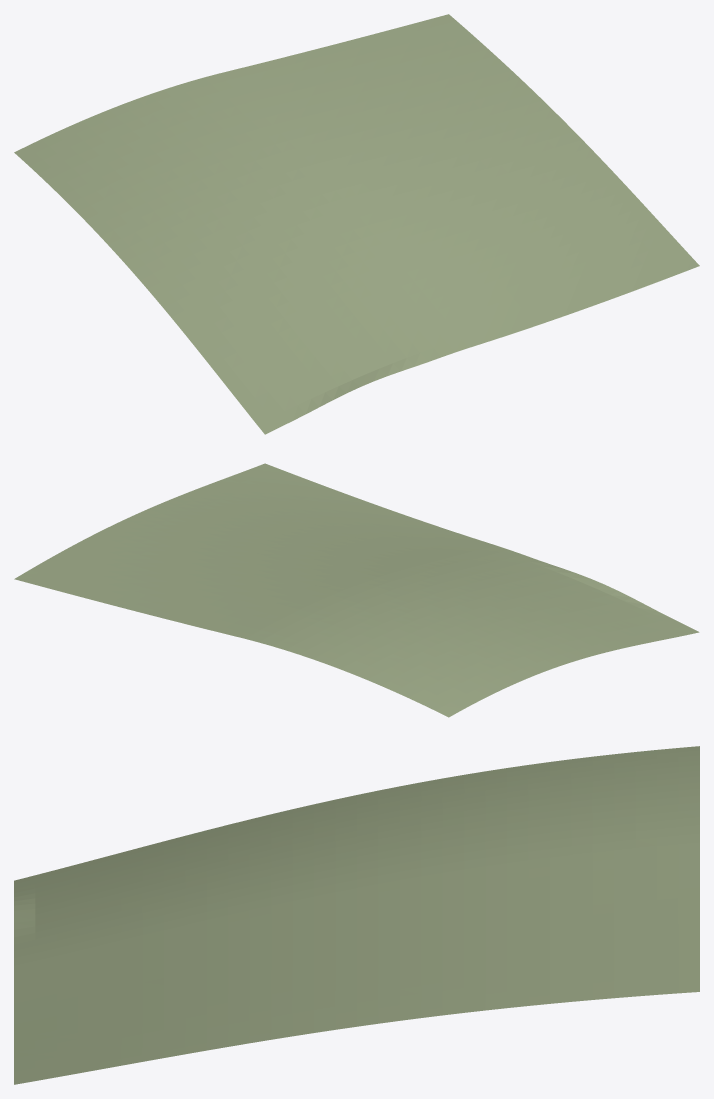
The model's file is expanse-26-9.glb.
The picture shows the model from 3 angles, top to bottom: view 1: azimuth 30°, elevation 25°; view 2: azimuth 150°, elevation 25°; view 3: azimuth 270°, elevation 25°; orthographic projection. The views are drawn at different scales.
Parts seen in each view (by area): view 1: expanse-26-9; view 2: expanse-26-9; view 3: expanse-26-9.
Boxes of the visible parts, <box> form: expanse-26-9: <box>14,14,699,434</box>; expanse-26-9: <box>14,463,699,717</box>; expanse-26-9: <box>14,746,699,1084</box>.
Bounding box in the file's own units: 256 × 73.57 × 256.
